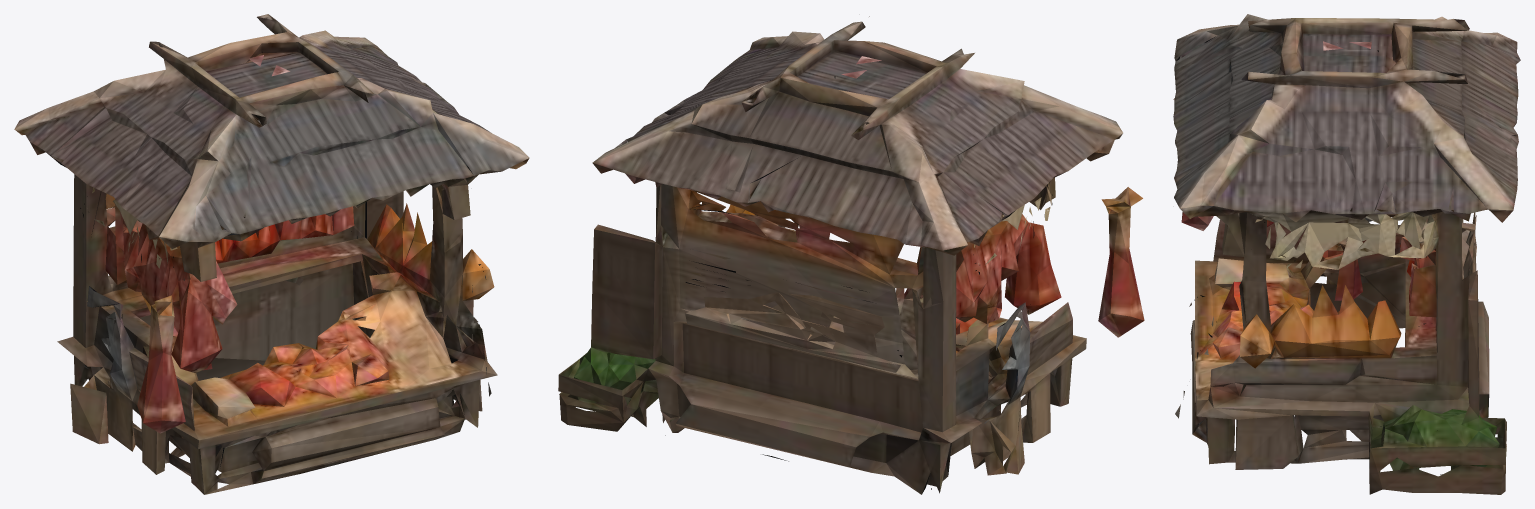
File: meshy_stall_meat_shingle_lod0.glb
3 renders of one model, left to right at view 1: azimuth 30°, elevation 25°; view 2: azimuth 150°, elevation 25°; view 3: azimuth 270°, elevation 25°, orthographic. The views are drawn at different scales.
Visible parts, largest first — view 1: meshy_stall_meat_shingle; view 2: meshy_stall_meat_shingle; view 3: meshy_stall_meat_shingle.
Part boxes in pixels (left/top/right/bottom): meshy_stall_meat_shingle: left=14, top=14, right=529, bottom=494; meshy_stall_meat_shingle: left=558, top=16, right=1144, bottom=494; meshy_stall_meat_shingle: left=1173, top=14, right=1520, bottom=494.
Size of the model in its own units: 3.75 by 3 by 2.68.
1 material, 1 textured.
